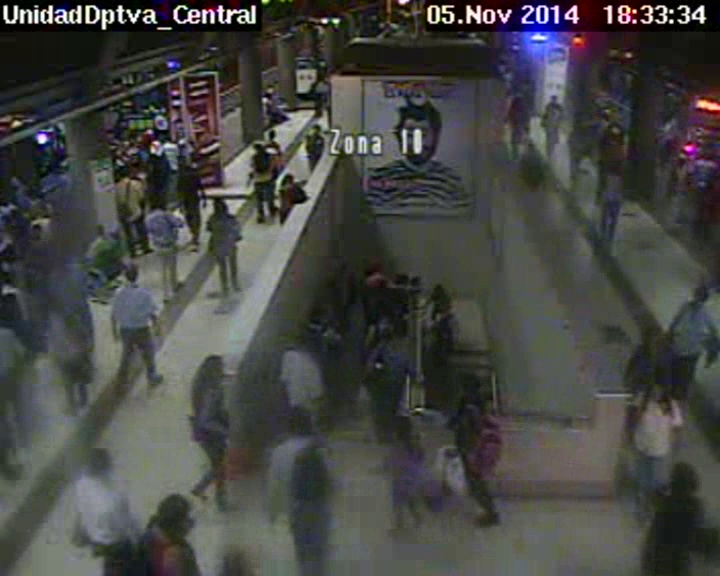person: (153, 492, 195, 535), (666, 464, 700, 497), (283, 408, 315, 438), (81, 447, 112, 477), (200, 354, 226, 381), (459, 373, 483, 399), (391, 417, 415, 441), (649, 380, 668, 403), (639, 328, 659, 347), (210, 195, 229, 214), (692, 286, 709, 306), (375, 313, 393, 331), (121, 265, 139, 283), (49, 299, 68, 316), (293, 337, 310, 355), (697, 146, 713, 164), (387, 331, 402, 348), (365, 260, 382, 275), (149, 139, 164, 156), (313, 305, 328, 321), (282, 172, 297, 187), (117, 164, 132, 179), (605, 157, 619, 173), (28, 204, 44, 218), (430, 281, 444, 296), (512, 95, 526, 110), (30, 224, 45, 238), (4, 293, 18, 308), (148, 199, 164, 212), (310, 122, 324, 136), (8, 176, 22, 190), (266, 129, 281, 142), (93, 224, 106, 238), (409, 276, 422, 289), (180, 160, 194, 172), (548, 91, 560, 105), (439, 303, 452, 315), (251, 143, 265, 154), (162, 135, 172, 145), (265, 85, 274, 94), (127, 137, 136, 146), (527, 143, 536, 151), (273, 81, 280, 89), (522, 126, 529, 134), (265, 94, 272, 100), (316, 73, 322, 80)
